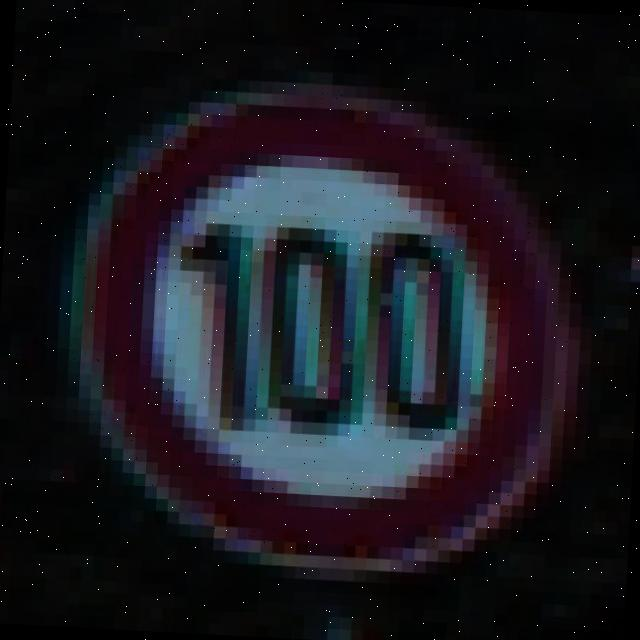Ograniczenie predkosci do 100: (74, 89, 577, 573)
